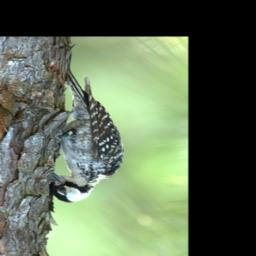Woodpecker: (50, 69, 126, 203)
